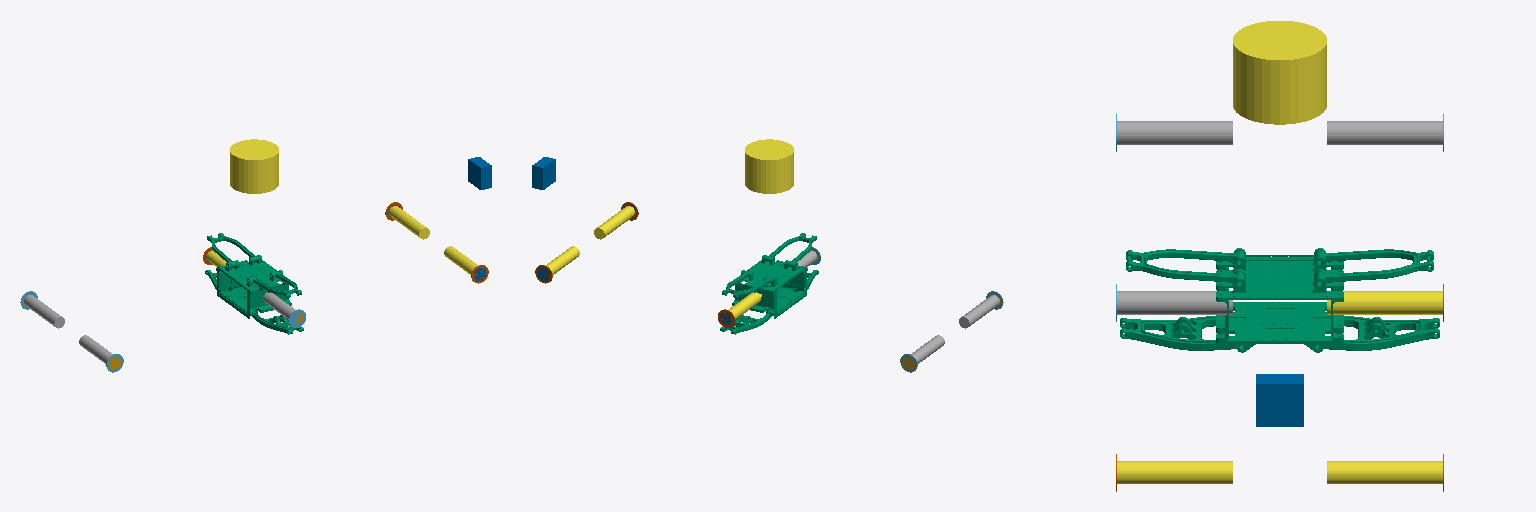
robot.urdf — cwego:
<?xml version="1.0" ?>
<!-- =================================================================================== -->
<!-- |    This document was autogenerated by xacro from cwego.xacro                    | -->
<!-- |    EDITING THIS FILE BY HAND IS NOT RECOMMENDED                                 | -->
<!-- =================================================================================== -->
<robot name="cwego">
  <!--Car Body-->
  <link name="base_link">
    <collision>
      <origin rpy="0 0 0" xyz="0 0 0.975"/>
      <geometry>
        <!--<box size="${base_length} ${base_width} ${base_height}"/>-->
        <mesh filename="package://vehicle/meshes/base_link.STL"/>
      </geometry>
    </collision>
    <visual>
      <origin rpy="0 0 0" xyz="0 0 0.975"/>
      <geometry>
        <mesh filename="package://vehicle/textures/body.dae"/>
        <!-- <box size="${base_length} ${base_width} ${base_height}"/>  -->

      </geometry>
    </visual>
  </link>
  <joint name="inertial_joint" type="fixed">
    <parent link="base_link"/>
    <child link="main_mass"/>
    <origin rpy="0 0 0" xyz="0 0 0.975"/>
  </joint>
  <link name="main_mass" type="fixed">
    <inertial>
      <origin rpy="0 0 0" xyz="0 0 0"/>
      <mass value="956"/>
      <inertia ixx="343" ixy="0.000000" ixz="0.000000" iyy="728" iyz="0.000000" izz="772"/>
    </inertial>
  </link>
  <!--Slider-->
  <joint name="slider_joint" type="prismatic">
    <parent link="base_link"/>
    <child link="slider"/>
    <origin rpy="0 1.5707963417948965 0" xyz="0 0 0.47595"/>
    <axis xyz="0 0 1"/>
    <limit effort="1000000.0" lower="-1.5" upper="1.5" velocity="10000.0"/>
  </joint>
  <link name="slider">
    <collision>
      <origin rpy="0 0 0" xyz="0 0 0"/>
      <geometry>
        <box size="0.3 0.4 0.4"/>
      </geometry>
    </collision>
    <visual>
      <origin rpy="0 0 1.5707963417948965" xyz="0 0 0"/>
      <geometry>
        <mesh filename="package://vehicle/textures/slider.dae"/>
        <!-- <box size="${slider_length} ${slider_width} ${slider_height}"/> -->
      </geometry>
    </visual>
    <inertial>
      <origin rpy="0 0 1.5707963417948965 " xyz="0 0 0"/>
      <mass value="10"/>
      <inertia ixx="0.9" ixy="0.000000" ixz="0.000000" iyy="1.6" iyz="0.000000" izz="1.8"/>
    </inertial>
  </link>
  <!--ML lift1-->
  <joint name="ml_lift1_joint" type="revolute">
    <parent link="slider"/>
    <child link="ml_lift1"/>
    <origin rpy="0 3.141592683589793 -1.5707963417948965" xyz="0 0.2 0"/>
    <axis xyz="0 0 1"/>
    <limit effort="1000000.0" lower="-0.785" upper="0.785" velocity="10000.0"/>
  </joint>
  <link name="ml_lift1">
    <visual>
      <origin rpy="0 1.5707963417948965 0" xyz="0.245 0 0"/>
      <geometry>
        <cylinder length="0.49" radius="0.05"/>
      </geometry>
    </visual>
    <inertial>
      <origin rpy="0 0 0" xyz="0 0 0"/>
      <mass value="5"/>
      <inertia ixx="0.012" ixy="0.000000" ixz="0.000000" iyy="0.025" iyz="0.000000" izz="0.012"/>
    </inertial>
  </link>
  <!--ML lift2-->
  <joint name="ml_lift2_joint" type="revolute">
    <parent link="ml_lift1"/>
    <child link="ml_lift2"/>
    <origin rpy="0 0  0" xyz="0.4925 0 0"/>
    <axis xyz="0 0 1"/>
    <limit effort="1000000.0" lower="-0.785" upper="0.785" velocity="10000.0"/>
  </joint>
  <link name="ml_lift2">
    <visual>
      <origin rpy="0 1.5707963417948965 0" xyz="0 0 0"/>
      <geometry>
        <cylinder length="0.005" radius="0.06"/>
      </geometry>
    </visual>
    <inertial>
      <origin rpy="0 0 0" xyz="0 0 0"/>
      <mass value="1"/>
      <inertia ixx="0.012" ixy="0.000000" ixz="0.000000" iyy="0.025" iyz="0.000000" izz="0.012"/>
    </inertial>
  </link>
  <!--ML steer-->
  <joint name="ml_steer_joint" type="revolute">
    <parent link="ml_lift2"/>
    <child link="ml_steer"/>
    <origin rpy="1.5707963417948965 0  0" xyz="0 0 0"/>
    <axis xyz="0 0 1"/>
    <limit effort="1000000.0" lower="-0.785" upper="0.785" velocity="10000.0"/>
  </joint>
  <link name="ml_steer">
    <visual>
      <origin rpy="0 1.5707963417948965 0" xyz="0 0 0"/>
      <geometry>
        <cylinder length="0.005" radius="0.08"/>
      </geometry>
    </visual>
    <inertial>
      <origin rpy="0 0 0" xyz="0 0 0"/>
      <mass value="5"/>
      <inertia ixx="0.012" ixy="0.000000" ixz="0.000000" iyy="0.025" iyz="0.000000" izz="0.012"/>
    </inertial>
  </link>
  <!--ML wheel-->
  <joint name="ml_wheel_joint" type="continuous">
    <parent link="ml_steer"/>
    <child link="ml_wheel"/>
    <origin rpy="0 -1.5707963417948965  0" xyz="0.165 0 0"/>
    <axis xyz="0 0 1"/>
    <limit effort="1000000" velocity="10000"/>
    <joint_properties damping="0.0" friction="0.0"/>
  </joint>
  <link name="ml_wheel">
    <collision>
      <origin rpy="3.141592683589793 0 0" xyz="0 0 0"/>
      <geometry>
        <cylinder length="0.255" radius="0.463"/>
      </geometry>
    </collision>
    <visual>
      <origin rpy="3.141592683589793 0 0" xyz="0 0 0"/>
      <geometry>
        <mesh filename="package://vehicle/textures/wheel.dae"/>
        <!--<cylinder length="${tyre_length}" radius="${tyre_radius}"/>-->
      </geometry>
    </visual>
    <inertial>
      <origin rpy="0 0 0" xyz="0 0 0"/>
      <mass value="20"/>
      <inertia ixx="0.5" ixy="0.000000" ixz="0.000000" iyy="0.9" iyz="0.000000" izz="0.5"/>
    </inertial>
  </link>
  <!--MR lift1-->
  <joint name="mr_lift1_joint" type="revolute">
    <parent link="slider"/>
    <child link="mr_lift1"/>
    <origin rpy="0 0 -1.5707963417948965" xyz="0 -0.2 0"/>
    <axis xyz="0 0 1"/>
    <limit effort="1000000.0" lower="-0.785" upper="0.785" velocity="10000.0"/>
  </joint>
  <link name="mr_lift1">
    <visual>
      <origin rpy="0 1.5707963417948965 0" xyz="0.245 0 0"/>
      <geometry>
        <cylinder length="0.49" radius="0.05"/>
      </geometry>
    </visual>
    <inertial>
      <origin rpy="0 0 0" xyz="0 0 0"/>
      <mass value="5"/>
      <inertia ixx="0.012" ixy="0.000000" ixz="0.000000" iyy="0.025" iyz="0.000000" izz="0.012"/>
    </inertial>
  </link>
  <!--MR lift2-->
  <joint name="mr_lift2_joint" type="revolute">
    <parent link="mr_lift1"/>
    <child link="mr_lift2"/>
    <origin rpy="0 0  0" xyz="0.4925 0 0"/>
    <axis xyz="0 0 1"/>
    <limit effort="1000000.0" lower="-0.785" upper="0.785" velocity="10000.0"/>
  </joint>
  <link name="mr_lift2">
    <visual>
      <origin rpy="0 1.5707963417948965 0" xyz="0 0 0"/>
      <geometry>
        <cylinder length="0.005" radius="0.06"/>
      </geometry>
    </visual>
    <inertial>
      <origin rpy="0 0 0" xyz="0 0 0"/>
      <mass value="1"/>
      <inertia ixx="0.012" ixy="0.000000" ixz="0.000000" iyy="0.025" iyz="0.000000" izz="0.012"/>
    </inertial>
  </link>
  <!--MR steer-->
  <joint name="mr_steer_joint" type="revolute">
    <parent link="mr_lift2"/>
    <child link="mr_steer"/>
    <origin rpy="1.5707963417948965 0  0" xyz="0 0 0"/>
    <axis xyz="0 0 1"/>
    <limit effort="1000000.0" lower="-0.785" upper="0.785" velocity="10000.0"/>
  </joint>
  <link name="mr_steer">
       <visual>
      <origin rpy="0 1.5707963417948965 0" xyz="0 0 0"/>
      <geometry>
        <cylinder length="0.005" radius="0.08"/>
      </geometry>
    </visual>
    <inertial>
      <origin rpy="0 0 0" xyz="0 0 0"/>
      <mass value="5"/>
      <inertia ixx="0.012" ixy="0.000000" ixz="0.000000" iyy="0.025" iyz="0.000000" izz="0.012"/>
    </inertial>
  </link>
  <!--MR wheel-->
  <joint name="mr_wheel_joint" type="continuous">
    <parent link="mr_steer"/>
    <child link="mr_wheel"/>
    <origin rpy="0 1.5707963417948965  0" xyz="0.165 0 0"/>
    <axis xyz="0 0 1"/>
    <limit effort="1000000" velocity="10000"/>
    <joint_properties damping="0.0" friction="0.0"/>
  </joint>
  <link name="mr_wheel">
    <collision>
      <origin rpy="0 0 0" xyz="0 0 0"/>
      <geometry>
        <cylinder length="0.255" radius="0.463"/>
      </geometry>
    </collision>
    <visual>
      <origin rpy="0 0 0" xyz="0 0 0"/>
      <geometry>
        <mesh filename="package://vehicle/textures/wheel.dae"/>
        <!--<cylinder length="${tyre_length}" radius="${tyre_radius}"/>-->
      </geometry>
    </visual>
    <inertial>
      <origin rpy="0 0 0" xyz="0 0 0"/>
      <mass value="20"/>
      <inertia ixx="0.5" ixy="0.000000" ixz="0.000000" iyy="0.9" iyz="0.000000" izz="0.5"/>
    </inertial>
  </link>
  <!-- ***************************************FL************************************* -->
  <!--FL lift1-->
  <joint name="fl_lift1_joint" type="revolute">
    <parent link="base_link"/>
    <child link="fl_lift1"/>
    <origin rpy="0 0 1.5707963417948965" xyz="1.7 0.2 0.47595"/>
    <axis xyz="0 1 0"/>
    <limit effort="1000000.0" lower="-0.785" upper="0.785" velocity="10000.0"/>
  </joint>
  <link name="fl_lift1">
    <visual>
      <origin rpy="0 1.5707963417948965 0" xyz="0.245 0 0"/>
      <geometry>
        <cylinder length="0.49" radius="0.05"/>
      </geometry>
    </visual>
    <inertial>
      <origin rpy="0 0 0" xyz="0 0 0"/>
      <mass value="5"/>
      <inertia ixx="0.012" ixy="0.000000" ixz="0.000000" iyy="0.025" iyz="0.000000" izz="0.012"/>
    </inertial>
  </link>
  <!--FL lift2-->
  <joint name="fl_lift2_joint" type="revolute">
    <parent link="fl_lift1"/>
    <child link="fl_lift2"/>
    <origin rpy="0 0  0" xyz="0.4925 0 0"/>
    <axis xyz="0 1 0"/>
    <limit effort="1000000.0" lower="-0.785" upper="0.785" velocity="10000.0"/>
  </joint>
  <link name="fl_lift2">
    <visual>
      <origin rpy="0 1.5707963417948965 0" xyz="0 0 0"/>
      <geometry>
        <cylinder length="0.005" radius="0.06"/>
      </geometry>
    </visual>
    <inertial>
      <origin rpy="0 0 0" xyz="0 0 0"/>
      <mass value="1"/>
      <inertia ixx="0.012" ixy="0.000000" ixz="0.000000" iyy="0.025" iyz="0.000000" izz="0.012"/>
    </inertial>
  </link>
  <!--FL steer-->
  <joint name="fl_steer_joint" type="revolute">
    <parent link="fl_lift2"/>
    <child link="fl_steer"/>
    <origin rpy="1.5707963417948965 0  0" xyz="0 0 0"/>
    <axis xyz="0 1 0"/>
    <limit effort="1000000.0" lower="-0.785" upper="0.785" velocity="10000.0"/>
  </joint>
  <link name="fl_steer">
        <visual>
      <origin rpy="0 1.5707963417948965 0" xyz="0 0 0"/>
      <geometry>
        <cylinder length="0.005" radius="0.08"/>
      </geometry>
    </visual>
    <inertial>
      <origin rpy="0 0 0" xyz="0 0 0"/>
      <mass value="5"/>
      <inertia ixx="0.012" ixy="0.000000" ixz="0.000000" iyy="0.025" iyz="0.000000" izz="0.012"/>
    </inertial>
  </link>
  <!--FL wheel-->
  <joint name="fl_wheel_joint" type="continuous">
    <parent link="fl_steer"/>
    <child link="fl_wheel"/>
    <origin rpy="0 -1.5707963417948965  0" xyz="0.165 0 0"/>
    <axis xyz="0 0 1"/>
    <limit effort="1000000" velocity="10000"/>
    <joint_properties damping="0.0" friction="0.0"/>
  </joint>
  <link name="fl_wheel">
    <collision>
      <origin rpy="3.141592683589793 0 0" xyz="0 0 0"/>
      <geometry>
        <cylinder length="0.255" radius="0.463"/>
      </geometry>
    </collision>
    <visual>
      <origin rpy="3.141592683589793 0 0" xyz="0 0 0"/>
      <geometry>
        <mesh filename="package://vehicle/textures/wheel.dae"/>
        <!--<cylinder length="${tyre_length}" radius="${tyre_radius}"/>-->
      </geometry>
    </visual>
    <inertial>
      <origin rpy="0 0 0" xyz="0 0 0"/>
      <mass value="20"/>
      <inertia ixx="0.5" ixy="0.000000" ixz="0.000000" iyy="0.9" iyz="0.000000" izz="0.5"/>
    </inertial>
  </link>
  <!-- ***************************************RL************************************* -->
  <!--RL lift1-->
  <joint name="rl_lift1_joint" type="revolute">
    <parent link="base_link"/>
    <child link="rl_lift1"/>
    <origin rpy="0 0 1.5707963417948965" xyz="-1.7 0.2 0.47595"/>
    <axis xyz="0 1 0"/>
    <limit effort="1000000.0" lower="-0.785" upper="0.785" velocity="10000.0"/>
  </joint>
  <link name="rl_lift1">
    <visual>
      <origin rpy="0 1.5707963417948965 0" xyz="0.245 0 0"/>
      <geometry>
        <cylinder length="0.49" radius="0.05"/>
      </geometry>
    </visual>
    <inertial>
      <origin rpy="0 0 0" xyz="0 0 0"/>
      <mass value="5"/>
      <inertia ixx="0.012" ixy="0.000000" ixz="0.000000" iyy="0.025" iyz="0.000000" izz="0.012"/>
    </inertial>
  </link>
  <!--RL lift2-->
  <joint name="rl_lift2_joint" type="revolute">
    <parent link="rl_lift1"/>
    <child link="rl_lift2"/>
    <origin rpy="0 0  0" xyz="0.4925 0 0"/>
    <axis xyz="0 1 0"/>
    <limit effort="1000000.0" lower="-0.785" upper="0.785" velocity="10000.0"/>
  </joint>
  <link name="rl_lift2">
        <visual>
      <origin rpy="0 1.5707963417948965 0" xyz="0 0 0"/>
      <geometry>
        <cylinder length="0.005" radius="0.06"/>
      </geometry>
    </visual>
    <inertial>
      <origin rpy="0 0 0" xyz="0 0 0"/>
      <mass value="1"/>
      <inertia ixx="0.012" ixy="0.000000" ixz="0.000000" iyy="0.025" iyz="0.000000" izz="0.012"/>
    </inertial>
  </link>
  <!--RL steer-->
  <joint name="rl_steer_joint" type="revolute">
    <parent link="rl_lift2"/>
    <child link="rl_steer"/>
    <origin rpy="1.5707963417948965 0  0" xyz="0 0 0"/>
    <axis xyz="0 1 0"/>
    <limit effort="1000000.0" lower="-0.785" upper="0.785" velocity="10000.0"/>
  </joint>
  <link name="rl_steer">
        <visual>
      <origin rpy="0 1.5707963417948965 0" xyz="0 0 0"/>
      <geometry>
        <cylinder length="0.005" radius="0.08"/>
      </geometry>
    </visual>
    <inertial>
      <origin rpy="0 0 0" xyz="0 0 0"/>
      <mass value="5"/>
      <inertia ixx="0.012" ixy="0.000000" ixz="0.000000" iyy="0.025" iyz="0.000000" izz="0.012"/>
    </inertial>
  </link>
  <!--RL wheel-->
  <joint name="rl_wheel_joint" type="continuous">
    <parent link="rl_steer"/>
    <child link="rl_wheel"/>
    <origin rpy="0 -1.5707963417948965  0" xyz="0.165 0 0"/>
    <axis xyz="0 0 1"/>
    <limit effort="1000000" velocity="10000"/>
    <joint_properties damping="0.0" friction="0.0"/>
  </joint>
  <link name="rl_wheel">
    <collision>
      <origin rpy="3.141592683589793 0 0" xyz="0 0 0"/>
      <geometry>
        <cylinder length="0.255" radius="0.463"/>
      </geometry>
    </collision>
    <visual>
      <origin rpy="3.141592683589793 0 0" xyz="0 0 0"/>
      <geometry>
        <mesh filename="package://vehicle/textures/wheel.dae"/>
        <!--<cylinder length="${tyre_length}" radius="${tyre_radius}"/>-->
      </geometry>
    </visual>
    <inertial>
      <origin rpy="0 0 0" xyz="0 0 0"/>
      <mass value="20"/>
      <inertia ixx="0.5" ixy="0.000000" ixz="0.000000" iyy="0.9" iyz="0.000000" izz="0.5"/>
    </inertial>
  </link>
  <!-- ***************************************FR************************************* -->
  <!--FR lift1-->
  <joint name="fr_lift1_joint" type="revolute">
    <parent link="base_link"/>
    <child link="fr_lift1"/>
    <origin rpy="0 0 -1.5707963417948965" xyz="1.7 -0.2 0.47595"/>
    <axis xyz="0 1 0"/>
    <limit effort="1000000.0" lower="-0.785" upper="0.785" velocity="10000.0"/>
  </joint>
  <link name="fr_lift1">
    <visual>
      <origin rpy="0 1.5707963417948965 0" xyz="0.245 0 0"/>
      <geometry>
        <cylinder length="0.49" radius="0.05"/>
      </geometry>
    </visual>
    <inertial>
      <origin rpy="0 0 0" xyz="0 0 0"/>
      <mass value="5"/>
      <inertia ixx="0.012" ixy="0.000000" ixz="0.000000" iyy="0.025" iyz="0.000000" izz="0.012"/>
    </inertial>
  </link>
  <!--FR lift2-->
  <joint name="fr_lift2_joint" type="revolute">
    <parent link="fr_lift1"/>
    <child link="fr_lift2"/>
    <origin rpy="0 0  0" xyz="0.4925 0 0"/>
    <axis xyz="0 1 0"/>
    <limit effort="1000000.0" lower="-0.785" upper="0.785" velocity="10000.0"/>
  </joint>
  <link name="fr_lift2">
       <visual>
      <origin rpy="0 1.5707963417948965 0" xyz="0 0 0"/>
      <geometry>
        <cylinder length="0.005" radius="0.06"/>
      </geometry>
    </visual>
    <inertial>
      <origin rpy="0 0 0" xyz="0 0 0"/>
      <mass value="1"/>
      <inertia ixx="0.012" ixy="0.000000" ixz="0.000000" iyy="0.025" iyz="0.000000" izz="0.012"/>
    </inertial>
  </link>
  <!--FR steer-->
  <joint name="fr_steer_joint" type="revolute">
    <parent link="fr_lift2"/>
    <child link="fr_steer"/>
    <origin rpy="1.5707963417948965 0  0" xyz="0 0 0"/>
    <axis xyz="0 1 0"/>
    <limit effort="1000000.0" lower="-0.785" upper="0.785" velocity="10000.0"/>
  </joint>
  <link name="fr_steer">
        <visual>
      <origin rpy="0 1.5707963417948965 0" xyz="0 0 0"/>
      <geometry>
        <cylinder length="0.005" radius="0.08"/>
      </geometry>
    </visual>
    <inertial>
      <origin rpy="0 0 0" xyz="0 0 0"/>
      <mass value="5"/>
      <inertia ixx="0.012" ixy="0.000000" ixz="0.000000" iyy="0.025" iyz="0.000000" izz="0.012"/>
    </inertial>
  </link>
  <!--FR wheel-->
  <joint name="fr_wheel_joint" type="continuous">
    <parent link="fr_steer"/>
    <child link="fr_wheel"/>
    <origin rpy="0 1.5707963417948965  0" xyz="0.165 0 0"/>
    <axis xyz="0 0 1"/>
    <limit effort="1000000" velocity="10000"/>
    <joint_properties damping="0.0" friction="0.0"/>
  </joint>
  <link name="fr_wheel">
    <collision>
      <origin rpy="0 0 0" xyz="0 0 0"/>
      <geometry>
        <cylinder length="0.255" radius="0.463"/>
      </geometry>
    </collision>
    <visual>
      <origin rpy="0 0 0" xyz="0 0 0"/>
      <geometry>
        <mesh filename="package://vehicle/textures/wheel.dae"/>
        <!--<cylinder length="${tyre_length}" radius="${tyre_radius}"/>-->
      </geometry>
    </visual>
    <inertial>
      <origin rpy="0 0 0" xyz="0 0 0"/>
      <mass value="20"/>
      <inertia ixx="0.5" ixy="0.000000" ixz="0.000000" iyy="0.9" iyz="0.000000" izz="0.5"/>
    </inertial>
  </link>
  <!-- ***************************************RR************************************* -->
  <!--RR lift1-->
  <joint name="rr_lift1_joint" type="revolute">
    <parent link="base_link"/>
    <child link="rr_lift1"/>
    <origin rpy="0 0 -1.5707963417948965" xyz="-1.7 -0.2 0.47595"/>
    <axis xyz="0 1 0"/>
    <limit effort="1000000.0" lower="-0.785" upper="0.785" velocity="10000.0"/>
  </joint>
  <link name="rr_lift1">
    <visual>
      <origin rpy="0 1.5707963417948965 0" xyz="0.245 0 0"/>
      <geometry>
        <cylinder length="0.49" radius="0.05"/>
      </geometry>
    </visual>
    <inertial>
      <origin rpy="0 0 0" xyz="0 0 0"/>
      <mass value="5"/>
      <inertia ixx="0.012" ixy="0.000000" ixz="0.000000" iyy="0.025" iyz="0.000000" izz="0.012"/>
    </inertial>
  </link>
  <!--RR lift2-->
  <joint name="rr_lift2_joint" type="revolute">
    <parent link="rr_lift1"/>
    <child link="rr_lift2"/>
    <origin rpy="0 0  0" xyz="0.4925 0 0"/>
    <axis xyz="0 1 0"/>
    <limit effort="1000000.0" lower="-0.785" upper="0.785" velocity="10000.0"/>
  </joint>
  <link name="rr_lift2">
        <visual>
      <origin rpy="0 1.5707963417948965 0" xyz="0 0 0"/>
      <geometry>
        <cylinder length="0.005" radius="0.06"/>
      </geometry>
    </visual>
    <inertial>
      <origin rpy="0 0 0" xyz="0 0 0"/>
      <mass value="1"/>
      <inertia ixx="0.012" ixy="0.000000" ixz="0.000000" iyy="0.025" iyz="0.000000" izz="0.012"/>
    </inertial>
  </link>
  <!--RR steer-->
  <joint name="rr_steer_joint" type="revolute">
    <parent link="rr_lift2"/>
    <child link="rr_steer"/>
    <origin rpy="1.5707963417948965 0  0" xyz="0 0 0"/>
    <axis xyz="0 1 0"/>
    <limit effort="1000000.0" lower="-0.785" upper="0.785" velocity="10000.0"/>
  </joint>
  <link name="rr_steer">
        <visual>
      <origin rpy="0 1.5707963417948965 0" xyz="0 0 0"/>
      <geometry>
        <cylinder length="0.005" radius="0.08"/>
      </geometry>
    </visual>
    <inertial>
      <origin rpy="0 0 0" xyz="0 0 0"/>
      <mass value="5"/>
      <inertia ixx="0.012" ixy="0.000000" ixz="0.000000" iyy="0.025" iyz="0.000000" izz="0.012"/>
    </inertial>
  </link>
  <!--RR wheel-->
  <joint name="rr_wheel_joint" type="continuous">
    <parent link="rr_steer"/>
    <child link="rr_wheel"/>
    <origin rpy="0 1.5707963417948965  0" xyz="0.165 0 0"/>
    <axis xyz="0 0 1"/>
    <limit effort="1000000" velocity="10000"/>
    <joint_properties damping="0.0" friction="0.0"/>
  </joint>
  <link name="rr_wheel">
    <collision>
      <origin rpy="0 0 0" xyz="0 0 0"/>
      <geometry>
        <cylinder length="0.255" radius="0.463"/>
      </geometry>
    </collision>
    <visual>
      <origin rpy="0 0 0" xyz="0 0 0"/>
      <geometry>
        <mesh filename="package://vehicle/textures/wheel.dae"/>
        <!--<cylinder length="${tyre_length}" radius="${tyre_radius}"/>-->
      </geometry>
    </visual>
    <inertial>
      <origin rpy="0 0 0" xyz="0 0 0"/>
      <mass value="20"/>
      <inertia ixx="0.5" ixy="0.000000" ixz="0.000000" iyy="0.9" iyz="0.000000" izz="0.5"/>
    </inertial>
  </link>
  <!--<cylinder length="${tyre_length}" radius="${tyre_radius}"/>-->
  <joint name="lidar_joint" type="fixed">
    <origin rpy="0 0 0" xyz="0 0 1.55"/>
    <parent link="base_link"/>
    <child link="laser_link"/>
  </joint>
  <link name="laser_link">
    <inertial>
      <mass value="0.1"/>
      <origin xyz="0 0 0"/>
      <inertia ixx="0.01" ixy="0.0" ixz="0.0" iyy="0.01" iyz="0.0" izz="0.01"/>
    </inertial>
    <visual>
      <origin rpy="0 0 0" xyz=" 0 0 0 "/>
      <geometry>
        <cylinder length="0.3" radius="0.2"/>
      </geometry>
    </visual>
    <collision>
      <origin rpy="0 0 0" xyz="0.0 0.0 0.0"/>
      <geometry>
        <cylinder length="0.3" radius="0.2"/>
      </geometry>
    </collision>
  </link>
  <joint name="camera_joint" type="fixed">
    <origin rpy="0 0 0" xyz="2.1 0 1.0"/>
    <parent link="base_link"/>
    <child link="camera_link"/>
  </joint>
  <link name="camera_link">
    <inertial>
      <mass value="0.1"/>
      <origin xyz="0 0 0"/>
      <inertia ixx="0.01" ixy="0.0" ixz="0.0" iyy="0.01" iyz="0.0" izz="0.01"/>
    </inertial>
    <visual>
      <origin rpy="0 0 0" xyz=" 0 0 0 "/>
      <geometry>
        <box size="0.1 0.2 0.2"/>
      </geometry>
    </visual>
    <collision>
      <origin rpy="0 0 0" xyz="0.0 0.0 0.0"/>
      <geometry>
        <box size="0.1 0.2 0.2"/>
      </geometry>
    </collision>
  </link>
  <cwego_base/>
</robot>

--- What the picture shows (computed from the rendered views, not written in the file) ---
3 views of the same robot in one strip: view 1: azimuth 30°, elevation 25°; view 2: azimuth 150°, elevation 25°; view 3: azimuth 270°, elevation 25° (orthographic).
Model cwego with 29 links and 28 joints (18 revolute, 6 continuous, 1 prismatic, 3 fixed), rooted at base_link, posed every joint at zero.
Visible links, largest first — view 1: slider, laser_link, camera_link, fl_lift1, rl_lift1; view 2: slider, laser_link, camera_link, fr_lift1, rr_lift1; view 3: slider, laser_link, rl_lift1, rr_lift1, fl_lift1, fr_lift1, mr_lift1, ml_lift1, camera_link.
Link boxes in pixels (box(x1,y1,x2,y2)): slider: box(205, 233, 303, 334); laser_link: box(230, 139, 278, 193); camera_link: box(468, 157, 491, 189); fl_lift1: box(389, 206, 429, 239); rl_lift1: box(24, 295, 64, 328); slider: box(720, 233, 818, 334); laser_link: box(745, 139, 793, 193); camera_link: box(532, 157, 555, 189); fr_lift1: box(594, 206, 634, 239); rr_lift1: box(959, 295, 999, 328); slider: box(1120, 248, 1439, 352); laser_link: box(1233, 21, 1326, 124); rl_lift1: box(1327, 121, 1442, 144); rr_lift1: box(1117, 121, 1232, 144); fl_lift1: box(1327, 461, 1442, 483); fr_lift1: box(1117, 461, 1232, 483); mr_lift1: box(1117, 291, 1232, 314); ml_lift1: box(1327, 291, 1442, 314); camera_link: box(1256, 374, 1303, 426).
Bounding box of the posed robot: 3.93 × 1.39 × 1.39 m (x, y, z).
1 mesh visuals loaded from 3 distinct referenced files (1 Collada DAE); not drawn: 7 (reference not matched to a file when rendering).
